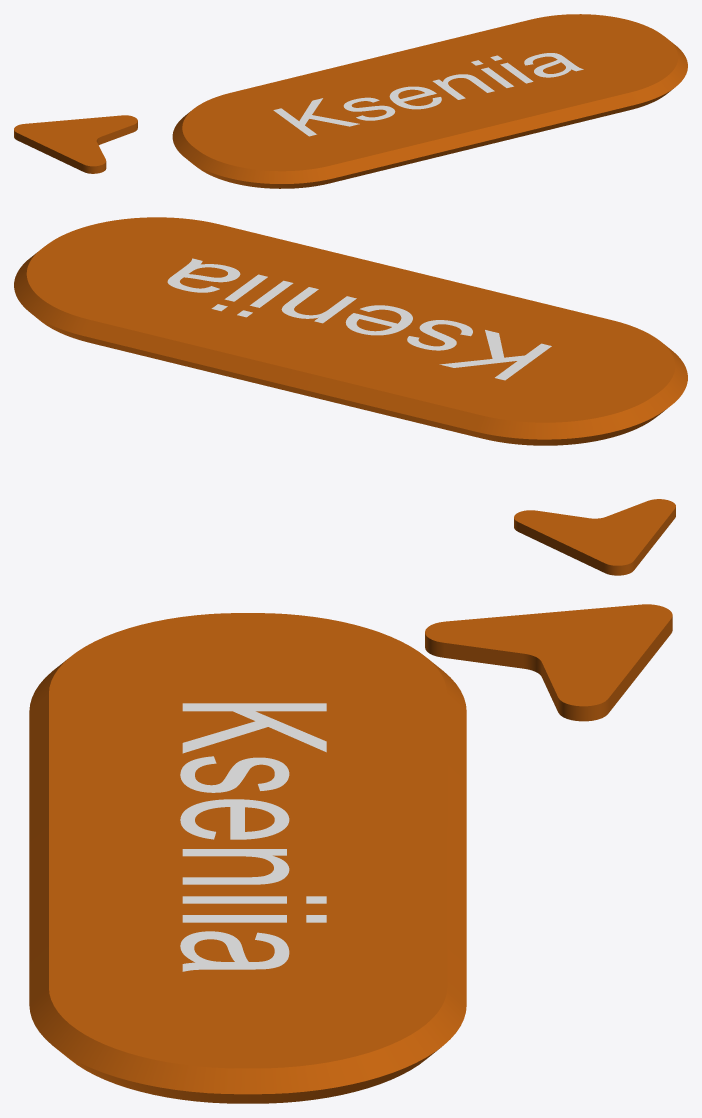
File: red-cursor-transformed.glb
3 views of the same model, one above another, from view 1: azimuth 30°, elevation 25°; view 2: azimuth 150°, elevation 25°; view 3: azimuth 270°, elevation 25° (orthographic). The views are drawn at different scales.
Parts seen in each view (by area): view 1: button.001, red-cursor, paulina.001; view 2: button.001, red-cursor, paulina.001; view 3: button.001, red-cursor, paulina.001.
Boxes of the visible parts, x1,y1,x2,y2 form: button.001: [172, 14, 687, 188]; red-cursor: [14, 115, 137, 173]; paulina.001: [273, 53, 583, 136]; button.001: [14, 217, 687, 445]; red-cursor: [514, 499, 675, 575]; paulina.001: [167, 258, 551, 380]; button.001: [29, 613, 466, 1103]; red-cursor: [425, 604, 672, 721]; paulina.001: [180, 703, 326, 971].
Size of the model in its own units: 0.3846 by 0.0295 by 0.1925.
